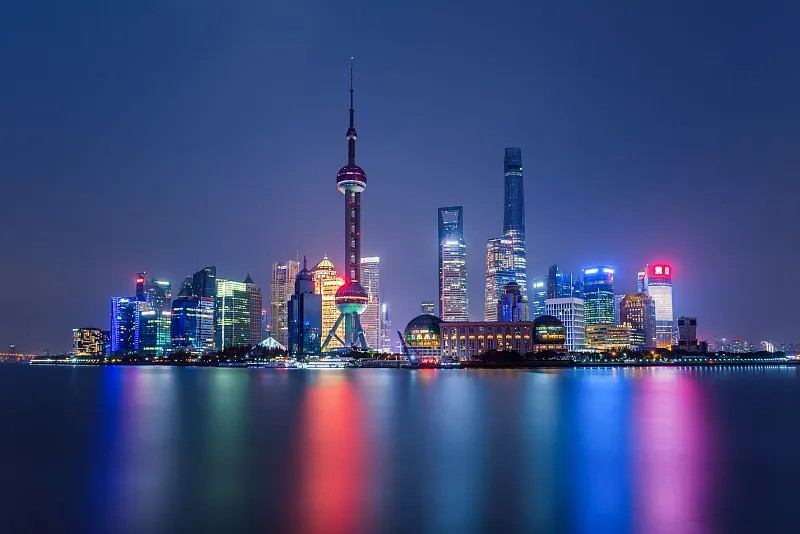Oriental: (322, 56, 367, 347)
